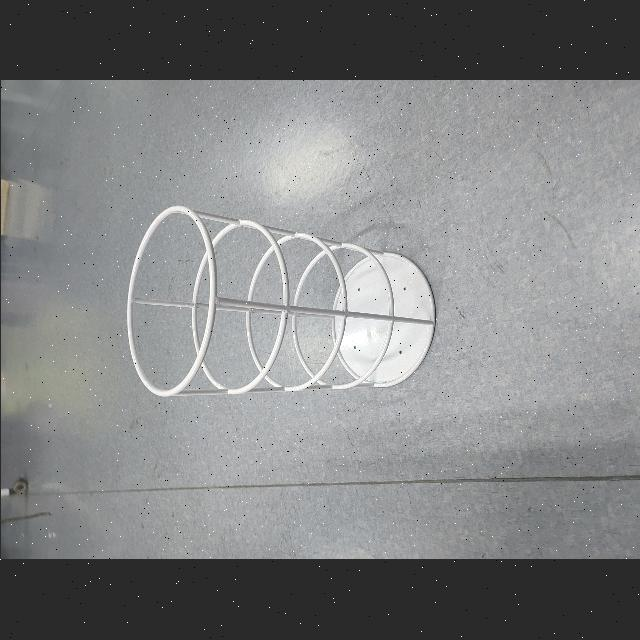S: (125, 204, 441, 402)
